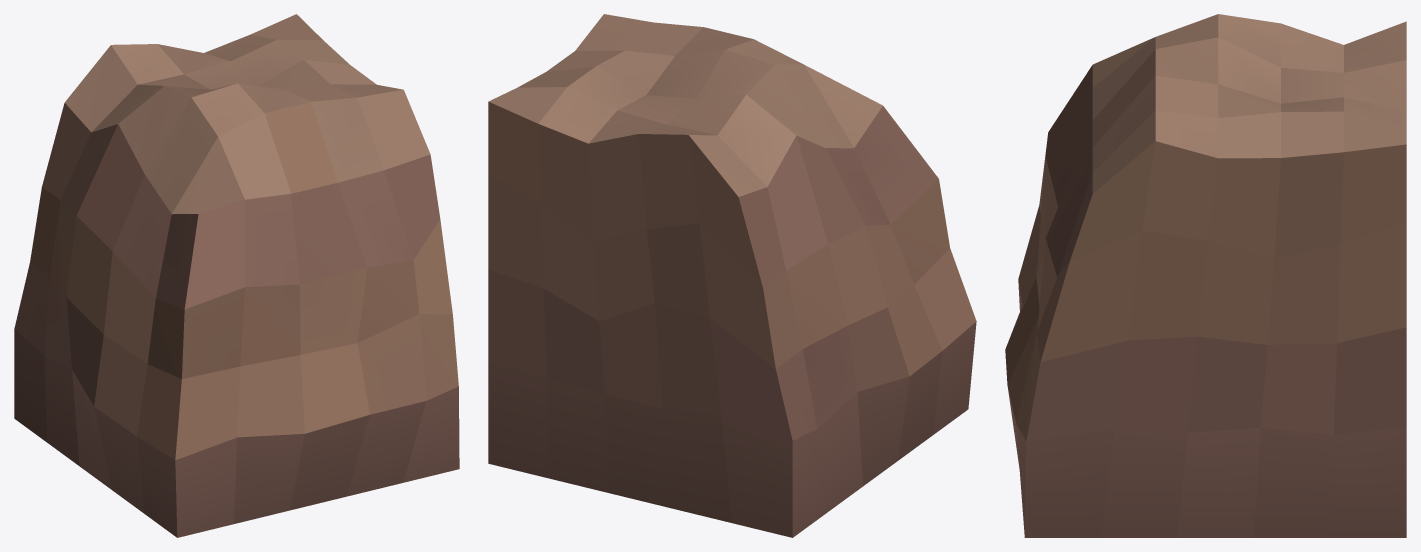
The model's file is roca_esquina_3.glb.
3 renders of one model, left to right at view 1: azimuth 30°, elevation 25°; view 2: azimuth 150°, elevation 25°; view 3: azimuth 270°, elevation 25°, orthographic. The views are drawn at different scales.
Parts seen in each view (by area): view 1: propforge-cuartos-roca_esquina; view 2: propforge-cuartos-roca_esquina; view 3: propforge-cuartos-roca_esquina.
Boxes of the visible parts, x1=… form: propforge-cuartos-roca_esquina: x1=14, y1=14, x2=459, y2=537; propforge-cuartos-roca_esquina: x1=488, y1=14, x2=976, y2=537; propforge-cuartos-roca_esquina: x1=1005, y1=14, x2=1406, y2=537.
Size of the model in its own units: 0.9459 by 1.09 by 0.946.
